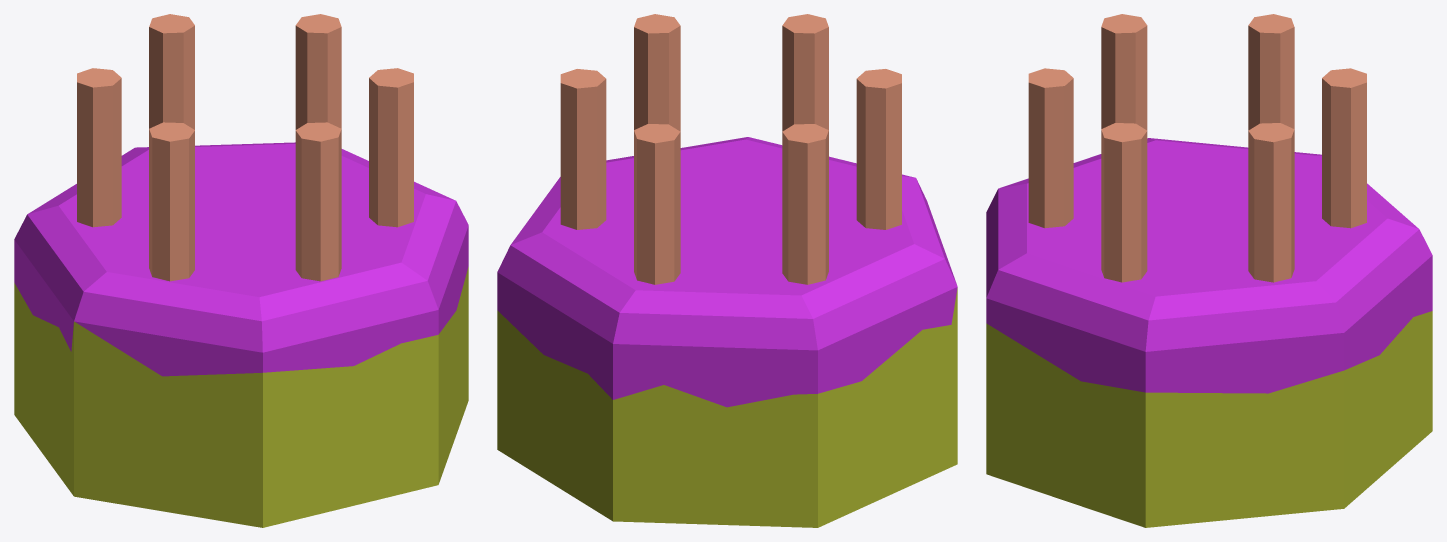
Rendered from cake.fbx.
The picture shows the model from 3 angles, left to right: view 1: azimuth 30°, elevation 25°; view 2: azimuth 150°, elevation 25°; view 3: azimuth 270°, elevation 25°; orthographic projection.
Visible parts, largest first — view 1: Cylinder.001; view 2: Cylinder.001; view 3: Cylinder.001.
Boxes of the visible parts, left/top/right/bottom form: Cylinder.001: left=14, top=14, right=468, bottom=527; Cylinder.001: left=497, top=14, right=957, bottom=527; Cylinder.001: left=986, top=14, right=1432, bottom=527.
Size of the model in its own units: 195 by 166 by 190.
